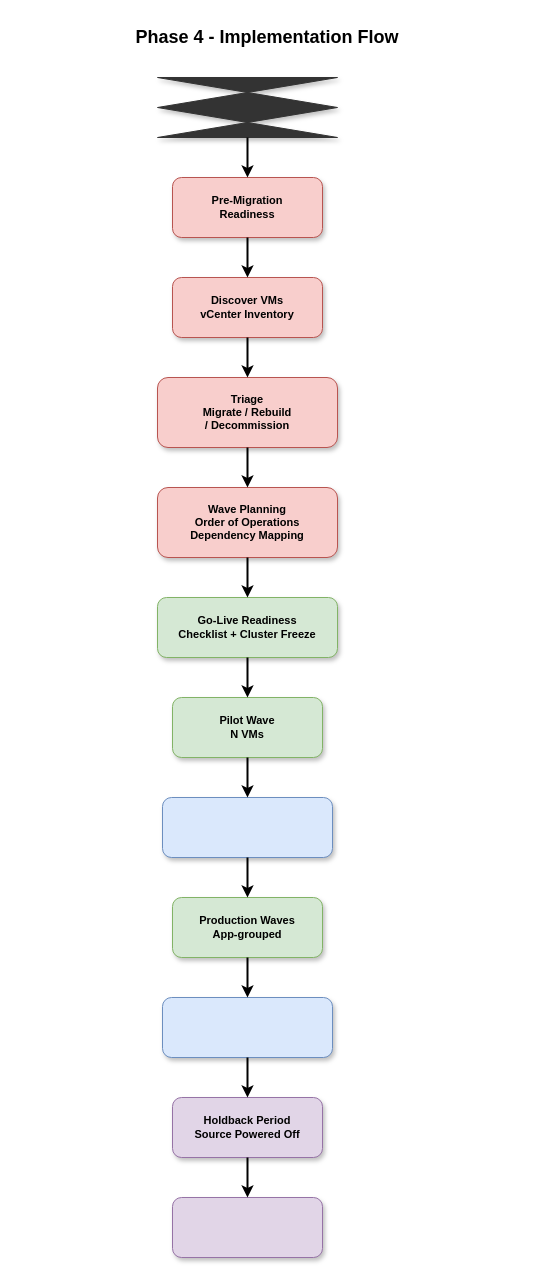
This 534x1282 diagram has some shape labels left out. Each missing label, with the centre of its shape:
"App Verification Functional Test + Sign-off" goes at (248,1028).
"Gate 3 Fleet Managed" goes at (248,108).
"Source VM Decommissioned" goes at (248,1228).
"Validate Pilot OS + App Verification" goes at (248,828).
